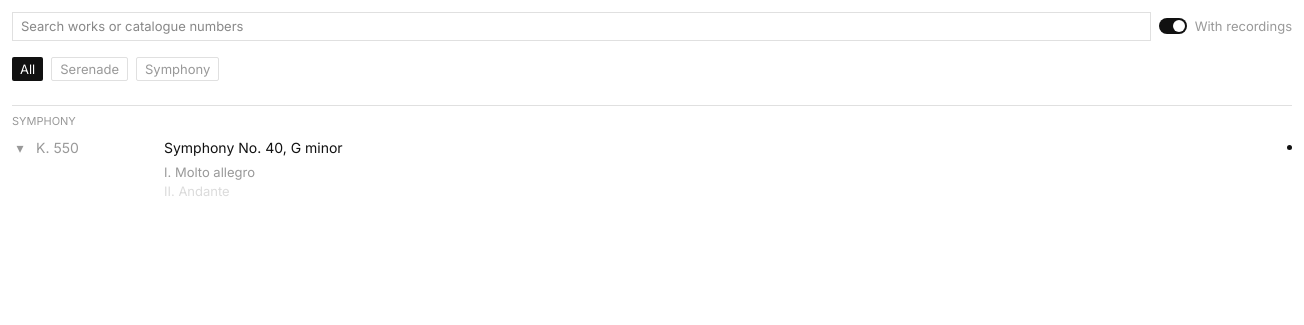
Scenario: WorksList › renders genre groups in order, each sorted by catalogue number
Click the switch labelled "With recordings" at point(1225, 26), box [1159,17,1292,36]
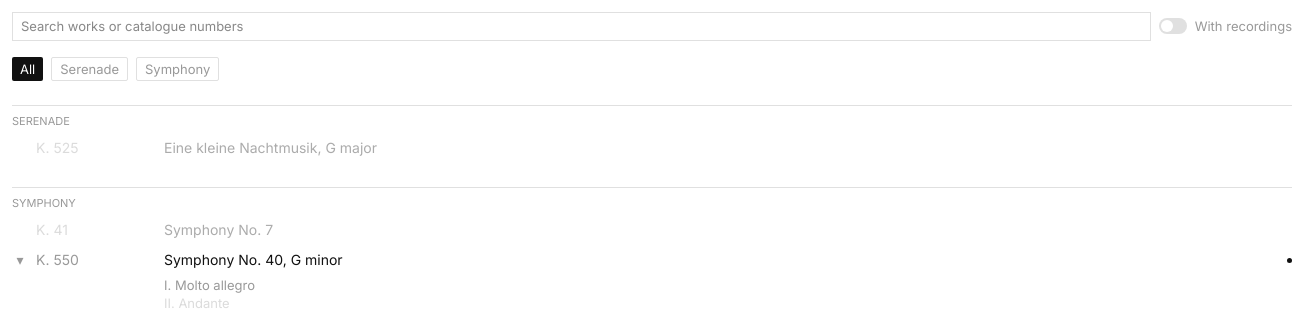
Expected: the link "K. 550 Symphony No. 40, G minor" is shown, [36,251,1292,268]
Result: the headings read "Serenade", "Symphony", in this order at [12,105,1292,129]; [12,187,1292,211]
Result: the link "K. 41 Symphony No. 7" is shown at [36,221,273,238]
